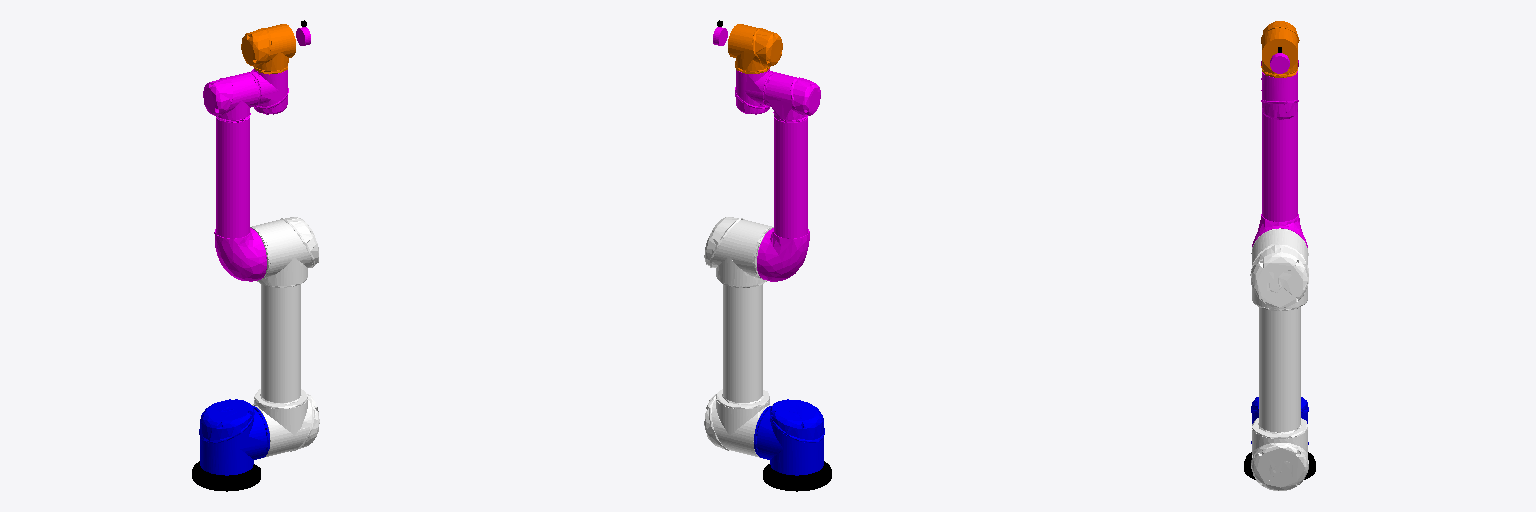
robot.urdf — ur5:
<?xml version="1.0"?>
<robot name="ur5">
  <link name="base_link">
    <inertial>
      <origin xyz="-0.00036702 -0.00036758 0.016561" rpy="0 0 0"/>
      <mass value="4.0"/>
      <inertia ixx="0.00060258" ixy="1.7502E-05" ixz="1.5277E-06" iyy="0.00060261" iyz="1.5241E-06" izz="0.0010709"/>
    </inertial>
    <visual>
      <origin xyz="0 0 0" rpy="0 0 0"/>
      <geometry>
        <mesh filename="package://ur5/base_link.stl"/>
      </geometry>
      <material name="Black">
        <color rgba="0 0 0 1"/>
      </material>
    </visual>
    <collision>
      <origin xyz="0 0 0" rpy="0 0 0"/>
      <geometry>
        <mesh filename="package://ur5/base_link.stl"/>
      </geometry>
    </collision>
  </link>
  <link name="shoulder_link">
    <inertial>
      <origin xyz="-0.078966 0.016439 -6.3565E-06" rpy="0 0 0"/>
      <mass value="3.7"/>
      <inertia ixx="0.0028298" ixy="0.00031932" ixz="-1.3132E-07" iyy="0.002538" iyz="4.4907E-07" izz="0.0026207"/>
    </inertial>
    <visual>
      <origin xyz="0 0 0" rpy="0 0 0"/>
      <geometry>
        <mesh filename="package://ur5/shoulder_link.stl"/>
      </geometry>
      <material name="Blue">
        <color rgba="0 0 1 1"/>
      </material>
    </visual>
    <collision>
      <origin xyz="0 0 0" rpy="0 0 0"/>
      <geometry>
        <mesh filename="package://ur5/shoulder_link.stl"/>
      </geometry>
    </collision>
  </link>
  <joint name="shoulder_pan_joint" type="revolute">
    <origin xyz="0 0 0.0099916" rpy="1.5708 1.5708 0"/>
    <parent link="base_link"/>
    <child link="shoulder_link"/>
    <axis xyz="1 0 0"/>
    <limit lower="-6.2832" upper="6.2832" effort="300" velocity="3"/>
    <dynamics damping="10" friction="1"/>
  </joint>
  <link name="upper_arm_link">
    <inertial>
      <origin xyz="-0.21652 0.079293 8.661E-08" rpy="0 0 0"/>
      <mass value="8.393"/>
      <inertia ixx="0.0063671" ixy="-9.2154E-12" ixz="9.0018E-07" iyy="0.021824" iyz="-2.2572E-07" izz="0.021327"/>
    </inertial>
    <visual>
      <origin xyz="0 0 0" rpy="0 0 0"/>
      <geometry>
        <mesh filename="package://ur5/upper_arm_link.stl"/>
      </geometry>
      <material name="White">
        <color rgba="1 1 1 1"/>
      </material>
    </visual>
    <collision>
      <origin xyz="0 0 0" rpy="0 0 0"/>
      <geometry>
        <mesh filename="package://ur5/upper_arm_link.stl"/>
      </geometry>
    </collision>
  </link>
  <joint name="shoulder_lift_joint" type="revolute">
    <origin xyz="-0.080008 0.053821 0" rpy="0 0 0"/>
    <parent link="shoulder_link"/>
    <child link="upper_arm_link"/>
    <axis xyz="0 -1 0"/>
    <limit lower="-1.57" upper="1.57" effort="200" velocity="3"/>
    <dynamics damping="10" friction="1"/>
  </joint>
  <link name="forearm_link">
    <inertial>
      <origin xyz="-0.1739 -0.033049 -2.6025E-06" rpy="0 0 0"/>
      <mass value="2.275"/>
      <inertia ixx="0.002241" ixy="-0.00011285" ixz="4.2229E-07" iyy="0.011808" iyz="-2.6928E-07" izz="0.011655"/>
    </inertial>
    <visual>
      <origin xyz="0 0 0" rpy="0 0 0"/>
      <geometry>
        <mesh filename="package://ur5/forearm_link.stl"/>
      </geometry>
      <material name="White">
        <color rgba="1 0 1 1"/>
      </material>
    </visual>
    <collision>
      <origin xyz="0 0 0" rpy="0 0 0"/>
      <geometry>
        <mesh filename="package://ur5/forearm_link.stl"/>
      </geometry>
    </collision>
  </link>
  <joint name="elbow_joint" type="revolute">
    <origin xyz="-0.425 0 0" rpy="0 0 0"/>
    <parent link="upper_arm_link"/>
    <child link="forearm_link"/>
    <axis xyz="0 1 0"/>
    <limit lower="-6.2832" upper="6.2832" effort="200" velocity="3"/>
    <dynamics damping="10" friction="1"/>
  </joint>
  <link name="wrist_1_link">
    <inertial>
      <origin xyz="0.003753 0.044978 1.2618E-05" rpy="0 0 0"/>
      <mass value="1.219"/>
      <inertia ixx="0.00041141" ixy="4.2784E-05" ixz="-2.8598E-07" iyy="0.00036744" iyz="4.089E-07" izz="0.000387"/>
    </inertial>
    <visual>
      <origin xyz="0 0 0" rpy="0 0 0"/>
      <geometry>
        <mesh filename="package://ur5/wrist_1_link.stl"/>
      </geometry>
      <material name="Red">
        <color rgba="1 0 1 1"/>
      </material>
    </visual>
    <collision>
      <origin xyz="0 0 0" rpy="0 0 0"/>
      <geometry>
        <mesh filename="package://ur5/wrist_1_link.stl"/>
      </geometry>
    </collision>
  </link>
  <joint name="wrist_1_joint" type="revolute">
    <origin xyz="-0.39225 0 0" rpy="0 0 0"/>
    <parent link="forearm_link"/>
    <child link="wrist_1_link"/>
    <axis xyz="0 -1 0"/>
    <limit lower="-6.2832" upper="6.2832" effort="200" velocity="3"/>
    <dynamics damping="10" friction="1"/>
  </joint>
  <link name="wrist_2_link">
    <inertial>
      <origin xyz="-0.083749 -0.0037532 -1.2446E-05" rpy="0 0 0"/>
      <mass value="1.219"/>
      <inertia ixx="0.00036744" ixy="4.2782E-05" ixz="4.1013E-07" iyy="0.0004114" iyz="-2.8709E-07" izz="0.000387"/>
    </inertial>
    <visual>
      <origin xyz="0 0 0" rpy="0 0 0"/>
      <geometry>
        <mesh filename="package://ur5/wrist_2_link.stl"/>
      </geometry>
      <material name="Orange">
        <color rgba="1 0.5 0 1"/>
      </material>
    </visual>
    <collision>
      <origin xyz="0 0 0" rpy="0 0 0"/>
      <geometry>
        <mesh filename="package://ur5/wrist_2_link.stl"/>
      </geometry>
    </collision>
  </link>
  <joint name="wrist_2_joint" type="revolute">
    <origin xyz="0 0.056149 0" rpy="0 0 0"/>
    <parent link="wrist_1_link"/>
    <child link="wrist_2_link"/>
    <axis xyz="1 0 0"/>
    <limit lower="-6.2832" upper="6.2832" effort="200" velocity="3"/>
    <dynamics damping="10" friction="1"/>
  </joint>
  <link name="wrist_3_link">
    <inertial>
      <origin xyz="-7.8282E-05 0.018179 0.00011982" rpy="0 0 0"/>
      <mass value="0.1879"/>
      <inertia ixx="6.8269E-05" ixy="5.7754E-08" ixz="-3.2009E-07" iyy="0.00011604" iyz="-8.84E-08" izz="6.8551E-05"/>
    </inertial>
    <visual>
      <origin xyz="0 0 0" rpy="0 0 0"/>
      <geometry>
        <mesh filename="package://ur5/wrist_3_link.stl"/>
      </geometry>
      <material name="White">
        <color rgba="1 1 1 1"/>
      </material>
    </visual>
    <collision>
      <origin xyz="0 0 0" rpy="0 0 0"/>
      <geometry>
        <mesh filename="package://ur5/wrist_3_link.stl"/>
      </geometry>
    </collision>
  </link>
  <joint name="wrist_3_joint" type="revolute">
    <origin xyz="-0.09492 0.041547 0" rpy="3.1416 0 3.1416"/>
    <parent link="wrist_2_link"/>
    <child link="wrist_3_link"/>
    <axis xyz="0 -1 0"/>
    <limit lower="-6.2832" upper="6.2832" effort="100" velocity="3"/>
    <dynamics damping="10" friction="1"/>
  </joint>
  <joint name="gripper_joint1" type="revolute">
    <axis xyz="1 0 0"/>
    <parent link="wrist_3_link"/>
    <child link="vacuum_gripper1"/>
    <origin rpy="1.570 0 0" xyz="0 0.04 0"/>
    <limit effort="50" velocity="50" lower="0" upper="0"/>
    <dynamics damping="0.0" friction="1000"/>
  </joint>
  <link name="vacuum_gripper1">
    <collision>
      <origin xyz="0 0 0" rpy="0 0 0"/>
      <geometry>
        <box size="0.0 0.0 0.0"/>
      </geometry>
    </collision>
    <gravity>0</gravity>
    <visual>
      <origin rpy="0 0 0" xyz="0 0 0"/>
      <geometry>
        <cylinder radius="0.02" length="0.015"/>
      </geometry>
      <material name="Red">
        <color rgba="1 0 1 1"/>
      </material>
    </visual>
    <inertial>
      <origin rpy="0 0 0" xyz="0.000000 0.000000 0.000000"/>
      <mass value="0.0001"/>
      <inertia ixx="1e-08" ixy="0" ixz="0" iyy="1e-08" iyz="0" izz="1e-08"/>
    </inertial>
  </link>
  <joint name="camera_joint" type="fixed">
    <axis xyz="0 1 0"/>
    <origin xyz="0.03 0.04 0" rpy="0 0 1.508"/>
    <parent link="wrist_3_link"/>
    <child link="camera_link"/>
  </joint><!-- Camera link -->
  <link name="camera_link">
    <collision>
      <origin xyz="0 0 0" rpy="0 0 0"/>
      <geometry>
        <box size="0.01 0.01 0.01"/>
      </geometry>
    </collision>
    <visual>
      <origin xyz="0 0 0" rpy="0 0 0"/>
      <geometry>
        <box size="0.01 0.01 0.01"/>
      </geometry>
      <material name="Black"/>
    </visual>
    <inertial>
      <mass value="1e-5"/>
      <origin xyz="0 0 0" rpy="0 0 0"/>
      <inertia ixx="1e-6" ixy="0" ixz="0" iyy="1e-6" iyz="0" izz="1e-6"/>
    </inertial>
  </link><!-- World and base links -->
  <link name="world"><!-- No inertial properties required --></link>
  <joint name="world_to_base" type="fixed">
    <parent link="world"/>
    <child link="base_link"/>
    <origin xyz="0 0 0" rpy="0 0 0"/>
  </joint>
</robot>

--- Render facts (derived) ---
The picture shows the robot from 3 angles, left to right: view 1: azimuth 30°, elevation 25°; view 2: azimuth 150°, elevation 25°; view 3: azimuth 270°, elevation 25°; orthographic projection.
Robot: ur5 — 10 links, 9 joints (7 revolute, 2 fixed); root link world; default pose: all joints at 0.
Links seen in each view (by area): view 1: upper_arm_link, forearm_link, shoulder_link, wrist_2_link, wrist_1_link, base_link; view 2: upper_arm_link, forearm_link, shoulder_link, wrist_2_link, wrist_1_link, base_link; view 3: upper_arm_link, forearm_link, wrist_2_link, wrist_1_link.
Link boxes in pixels (x1,y1,x2,y2): upper_arm_link: (250,217,319,457); forearm_link: (203,73,266,281); shoulder_link: (199,399,269,475); wrist_2_link: (241,24,295,74); wrist_1_link: (247,69,288,114); base_link: (192,461,260,491); upper_arm_link: (704,217,773,457); forearm_link: (757,73,820,281); shoulder_link: (754,399,824,475); wrist_2_link: (728,24,782,73); wrist_1_link: (735,69,776,114); base_link: (763,461,831,491); upper_arm_link: (1250,228,1308,490); forearm_link: (1252,60,1307,247); wrist_2_link: (1261,21,1299,77); wrist_1_link: (1261,71,1298,119).
Bounding box of the posed robot: 0.2833 × 0.149 × 1.04 m (x, y, z).
6 mesh visuals loaded from 7 distinct referenced files (6 binary STL); not drawn: 1 (reference not matched to a file when rendering).